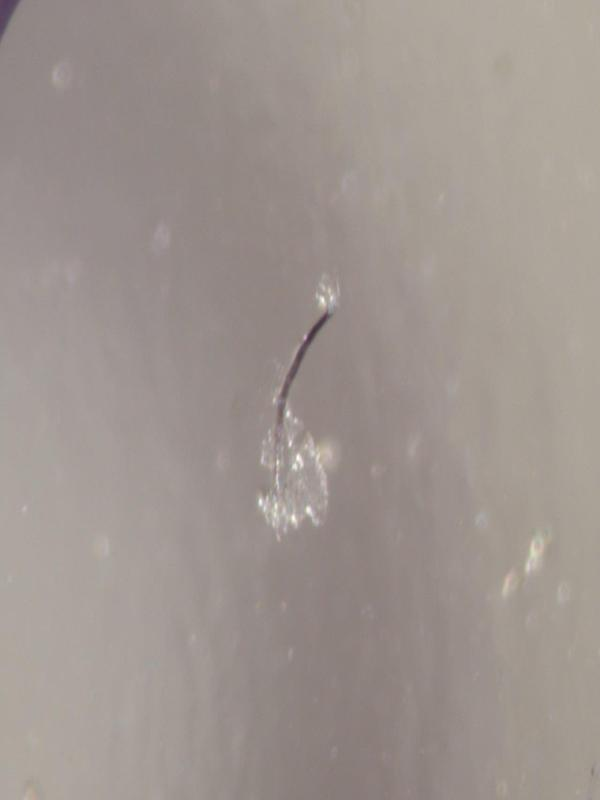microplastic: (255, 270, 341, 542)
